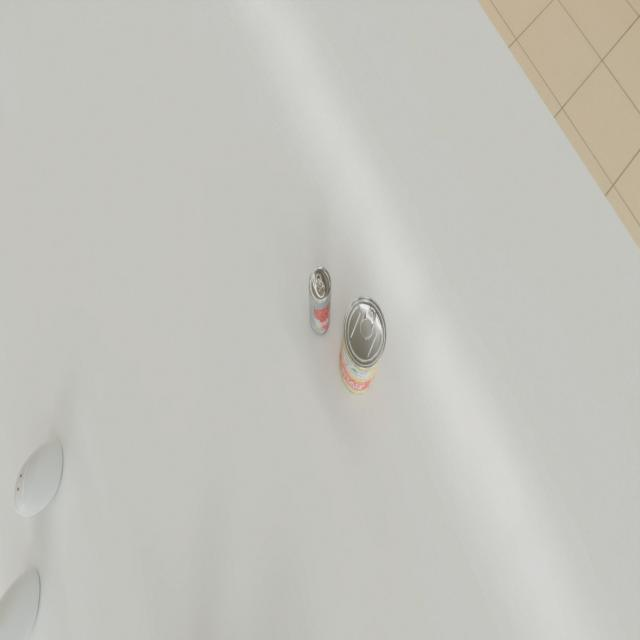Potato_sticks: (339, 296, 387, 395)
Rita_zero_sugar: (308, 266, 332, 336)
Salt: (13, 439, 62, 516)
